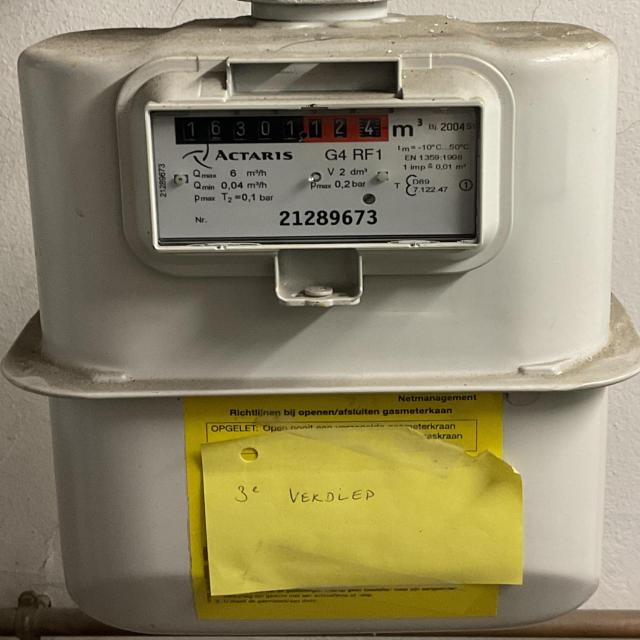gaz_meter: (144, 97, 444, 217)
indication: (176, 111, 388, 147)
